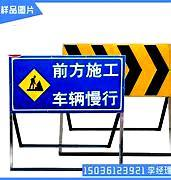sign: (8, 54, 124, 112)
